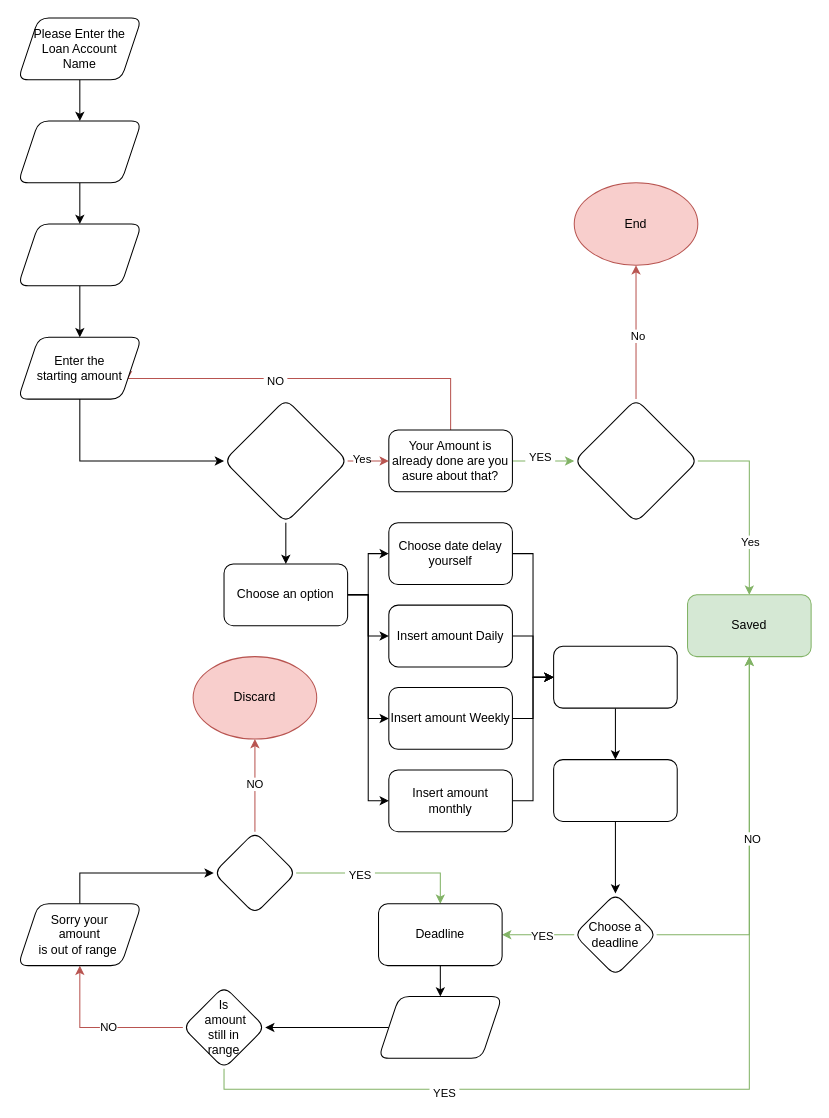
Some shapes in this 829 by 1118 pixel diagram are drawn without their labels. The centre of each missing label's shape, as x and y in pixels:
"A description for the Saving account" belongs at point 79,254.
"C# will calculate how much of an amount user need to insert" belongs at point 439,1026.
"Choose an amount" belongs at point 615,676.
"Choose one of the following options" belongs at point 615,790.
"Do you still need this saving account?" belongs at point 635,460.
"Is Enter Amount =Total amount" belongs at point 285,460.
"Please entre the total amount" belongs at point 79,151.
"wanna change the Deadline or discard" belongs at point 254,872.
